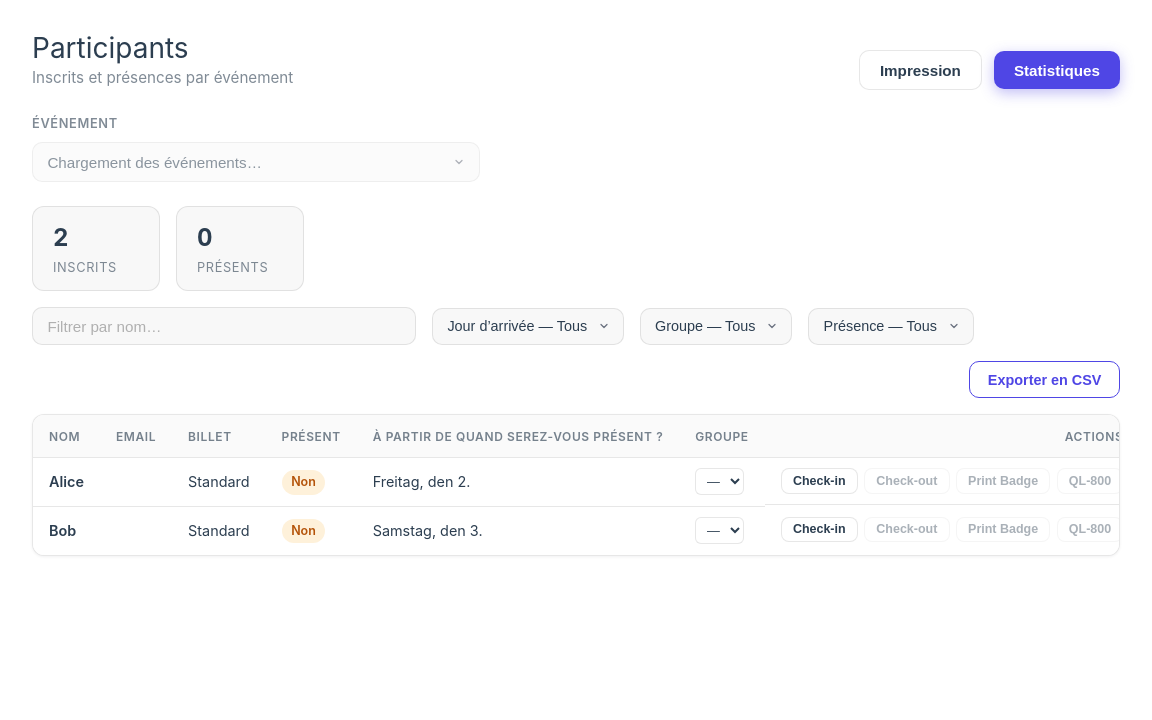
it: DashboardView › filtre par jour d’arrivée (« Ab wann willst du dabei sein? »)
Select "Freitag, den 2." in the 1st dropdown with class "filter-select" at (528, 326), box top-left (432, 308), bottom-right (624, 345)
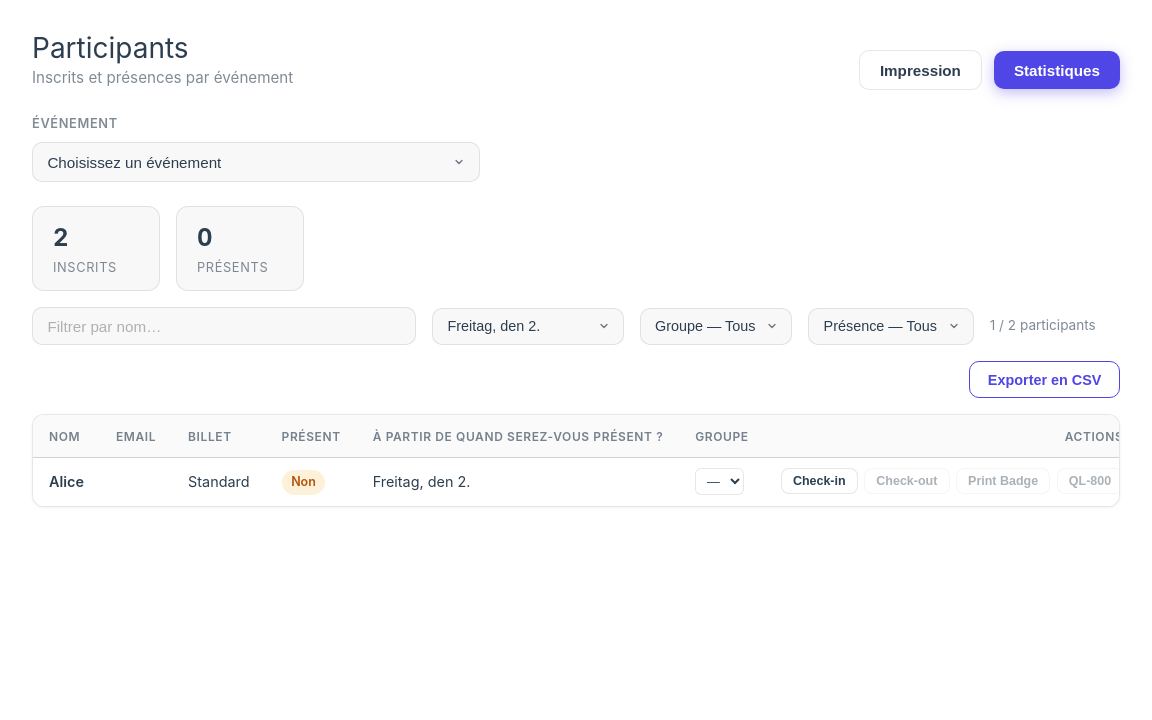
Expected: the text "Alice" is shown, top-left (33, 458), bottom-right (100, 506)
Expected: the text "Bob" is gone
